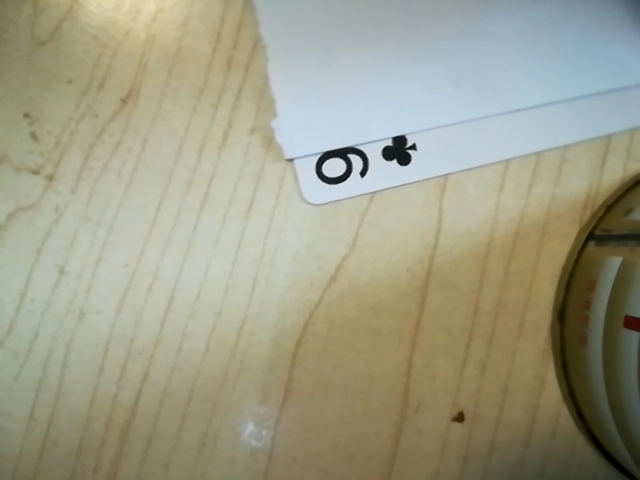mh 9: (302, 130, 427, 196)
